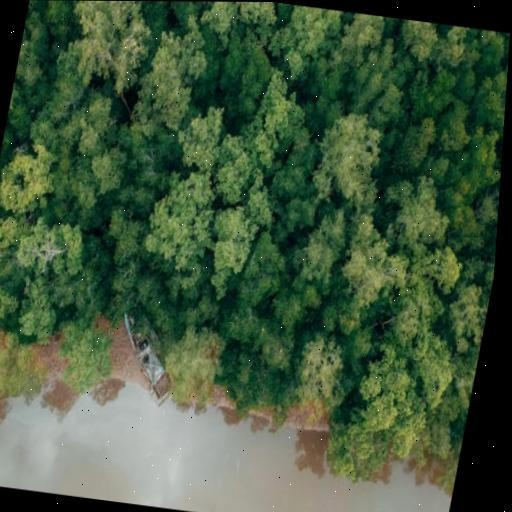tree-top: (304, 108, 402, 213), (126, 20, 204, 132), (64, 1, 152, 94), (374, 169, 463, 256), (145, 169, 224, 266), (263, 126, 330, 234), (334, 219, 411, 304), (286, 338, 352, 431), (346, 40, 418, 124), (210, 34, 276, 125), (57, 314, 124, 400), (251, 65, 306, 166), (384, 260, 448, 345), (14, 214, 89, 283), (354, 348, 420, 426), (270, 3, 352, 65), (0, 143, 64, 221), (26, 91, 90, 169), (235, 222, 290, 312), (292, 204, 352, 285), (404, 329, 465, 408), (167, 105, 236, 173), (9, 0, 52, 108), (162, 323, 223, 398), (321, 419, 389, 486), (0, 332, 56, 412), (66, 91, 123, 164), (404, 65, 465, 132), (204, 208, 256, 282), (226, 353, 283, 420), (209, 135, 263, 205), (13, 276, 66, 343), (450, 186, 500, 251), (444, 280, 493, 344), (103, 206, 150, 272), (459, 126, 504, 193), (472, 57, 508, 135), (387, 404, 433, 462), (445, 340, 481, 412), (338, 12, 385, 62), (394, 19, 445, 62), (405, 115, 444, 170), (422, 413, 462, 465), (425, 248, 465, 298), (438, 25, 482, 65), (89, 145, 130, 182), (0, 208, 24, 269), (206, 2, 238, 44), (225, 2, 278, 27), (0, 264, 17, 327), (496, 32, 510, 60)
